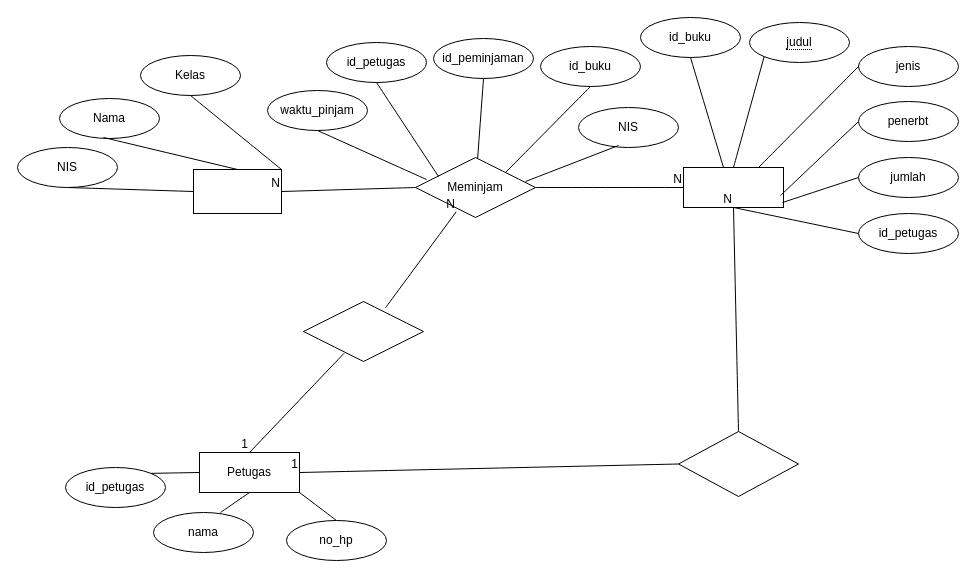
The diagram is 976 pixels wide and 578 high, and some of its shapes have lost their labels. Each missing label, with the centre of its shape:
Buku: pixel 733 187
mengelola: pixel 738 463
mengizinkan: pixel 363 331
Siswa: pixel 237 191
